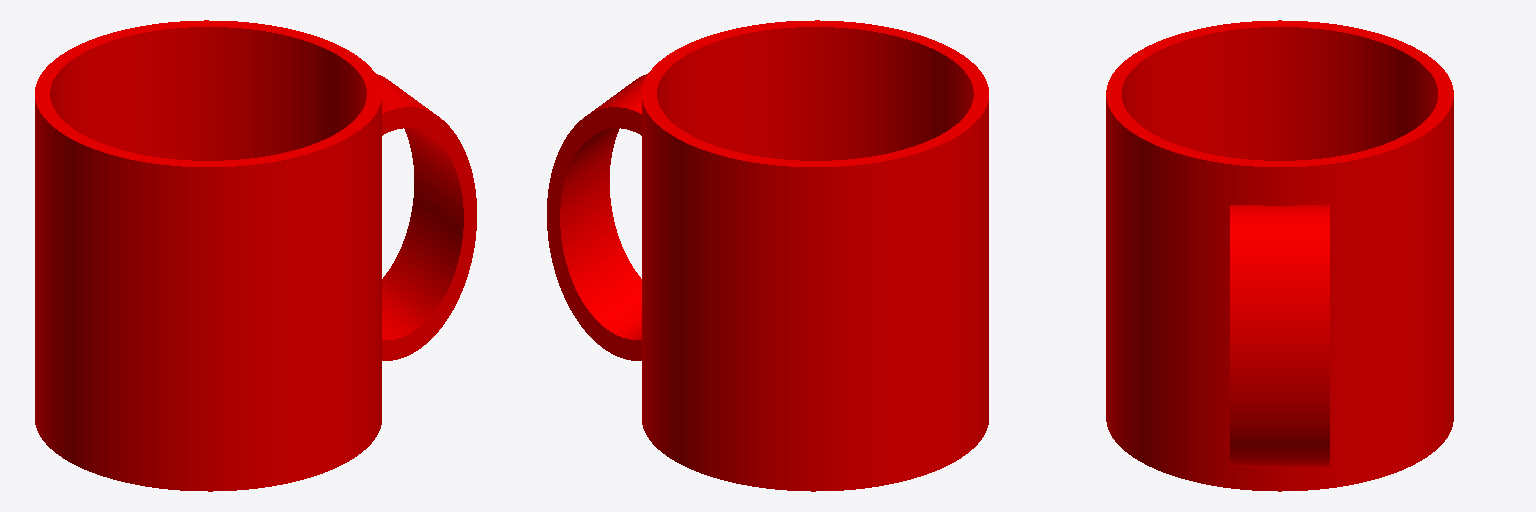
robot.urdf — mug.urdf:
<?xml version="1.0" ?>
<robot name="mug.urdf">
  <link name="baseLink">
    <inertial>
      <origin rpy="0 0 0" xyz="0 0 0"/>
       <mass value=".1"/>
       <inertia ixx="1" ixy="0" ixz="0" iyy="1" iyz="0" izz="1"/>
    </inertial>
    <contact>
      <lateral_friction value="1.0"/>
      <inertia_scaling value="3.0"/>
    </contact>
    <visual>
      <origin rpy="0 0 0" xyz="0 0 0"/>
      <geometry>
        <mesh filename="8.stl" scale="1 1 1" />
      </geometry>
      <material name="red">
        <color rgba="1 0 0 1"/>
      </material>
    </visual>
    <collision>
      <origin rpy="0 0 0" xyz="0 0 0"/>
      <geometry>
        <mesh filename="8_convex.obj" scale="1 1 1" />
      </geometry>
    </collision>
  </link>
</robot>

--- Render facts (derived) ---
3 views of the same robot in one strip: view 1: azimuth 30°, elevation 25°; view 2: azimuth 150°, elevation 25°; view 3: azimuth 270°, elevation 25° (orthographic).
Robot: mug.urdf — 1 links, 0 joints (none); root link baseLink; default pose: all joints at 0.
Links seen in each view (by area): view 1: baseLink; view 2: baseLink; view 3: baseLink.
Boxes of the visible links, x1,y1,x2,y2 form: baseLink: (35, 20, 476, 491); baseLink: (547, 20, 988, 491); baseLink: (1106, 20, 1453, 491).
Size in the robot's own frame: 0.148 by 0.113 by 0.1162 metres.
Meshes: 1 distinct files referenced, 1 mesh visuals loaded (1 binary STL).